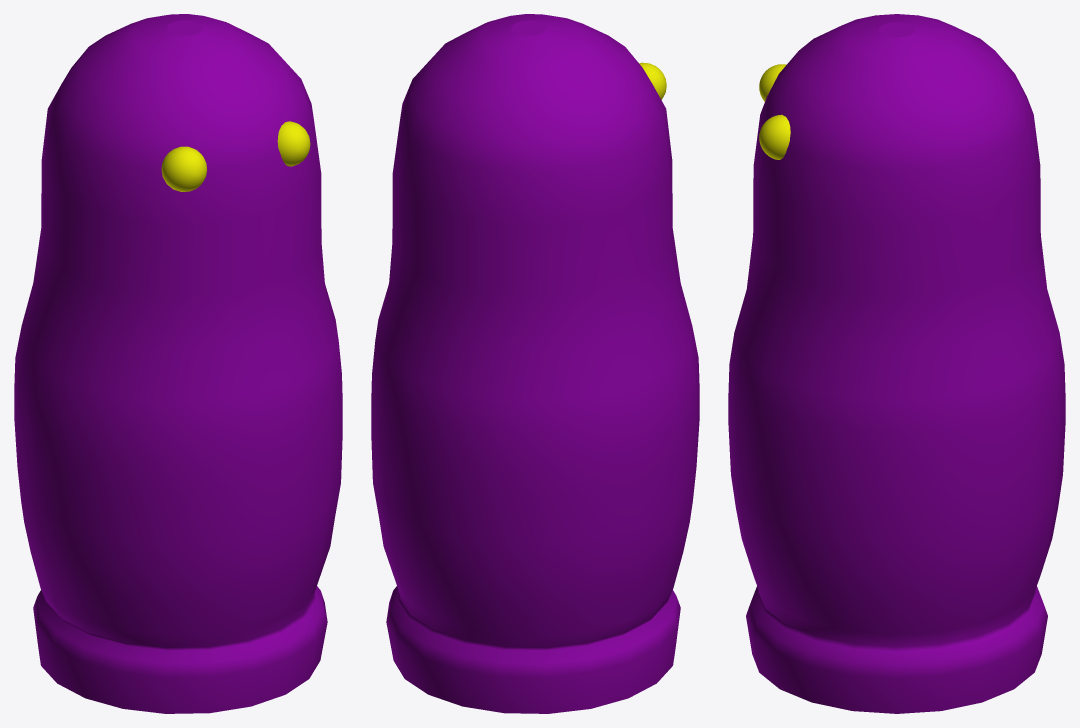
The model's file is person3.fbx.
The picture shows the model from 3 angles, left to right: view 1: azimuth 30°, elevation 25°; view 2: azimuth 150°, elevation 25°; view 3: azimuth 270°, elevation 25°; orthographic projection.
Parts seen in each view (by area): view 1: person3; view 2: person3; view 3: person3.
Boxes of the visible parts, left/top/right/bottom form: person3: left=14, top=14, right=342, bottom=713; person3: left=371, top=14, right=699, bottom=713; person3: left=728, top=14, right=1065, bottom=713.
Bounding box in the file's own units: 4.1 × 8.61 × 4.2.
